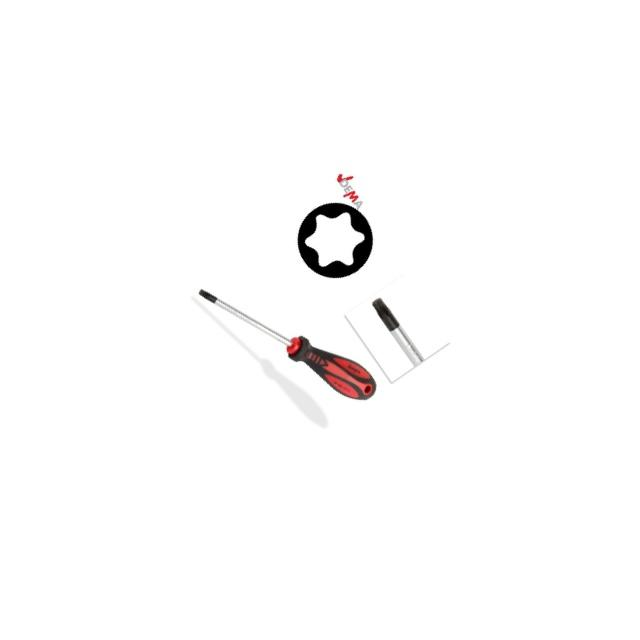screwdriver: (192, 234, 384, 448)
